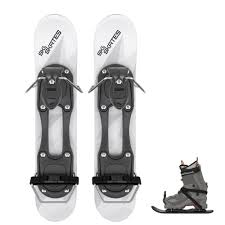skis: (30, 13, 140, 220)
